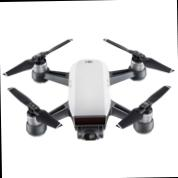drone: (0, 37, 175, 141)
